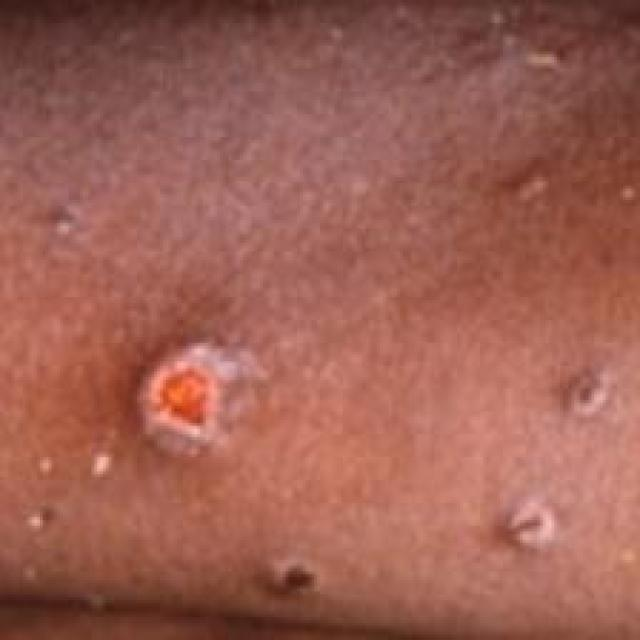monkeypox: (0, 51, 634, 637)
